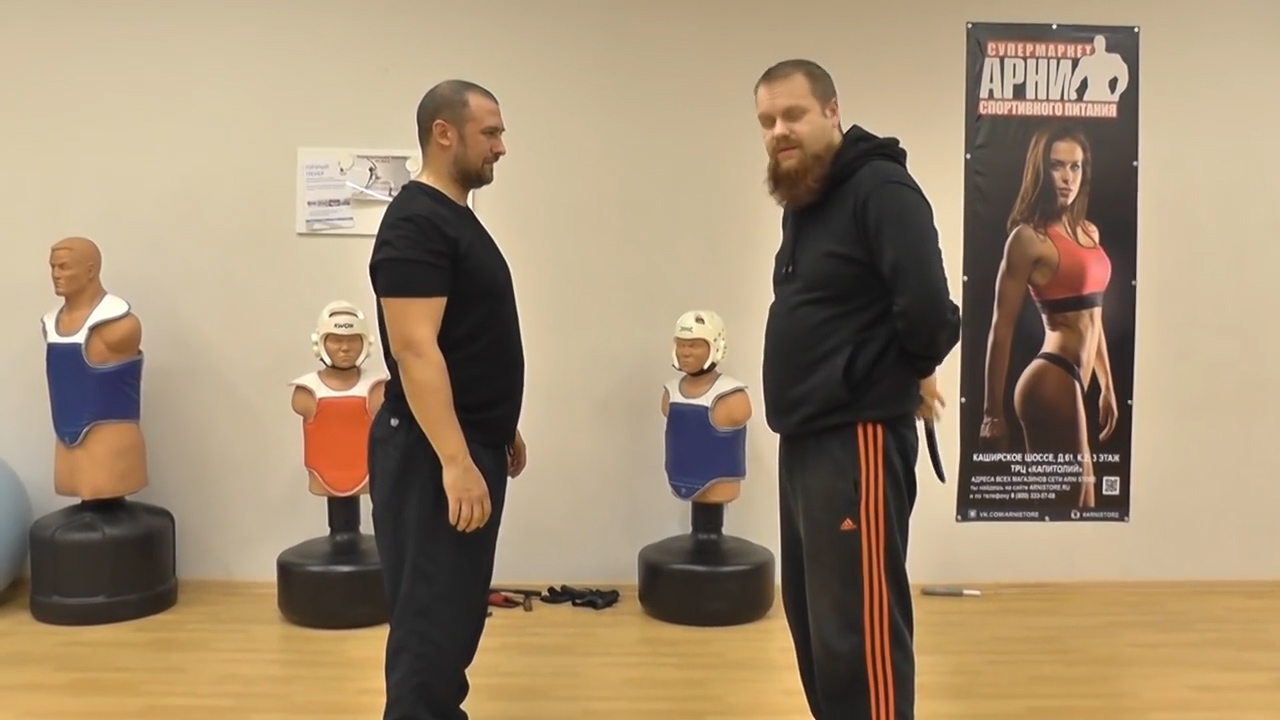knife: (920, 385, 952, 487)
